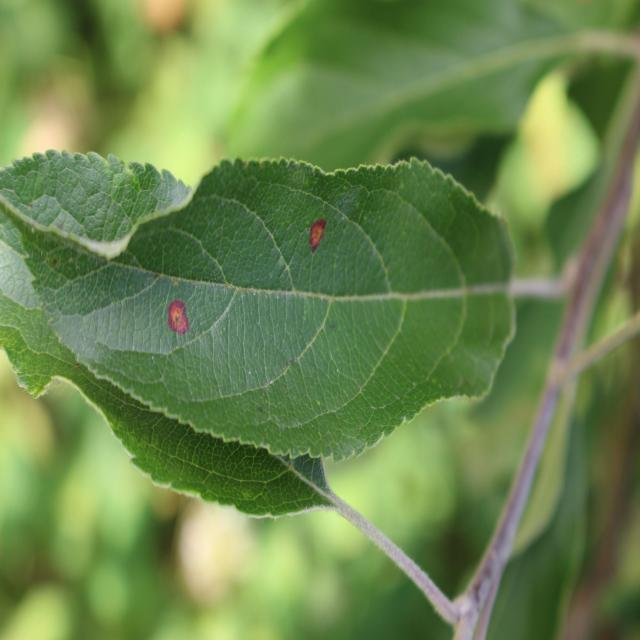rust: (2, 149, 520, 465)
